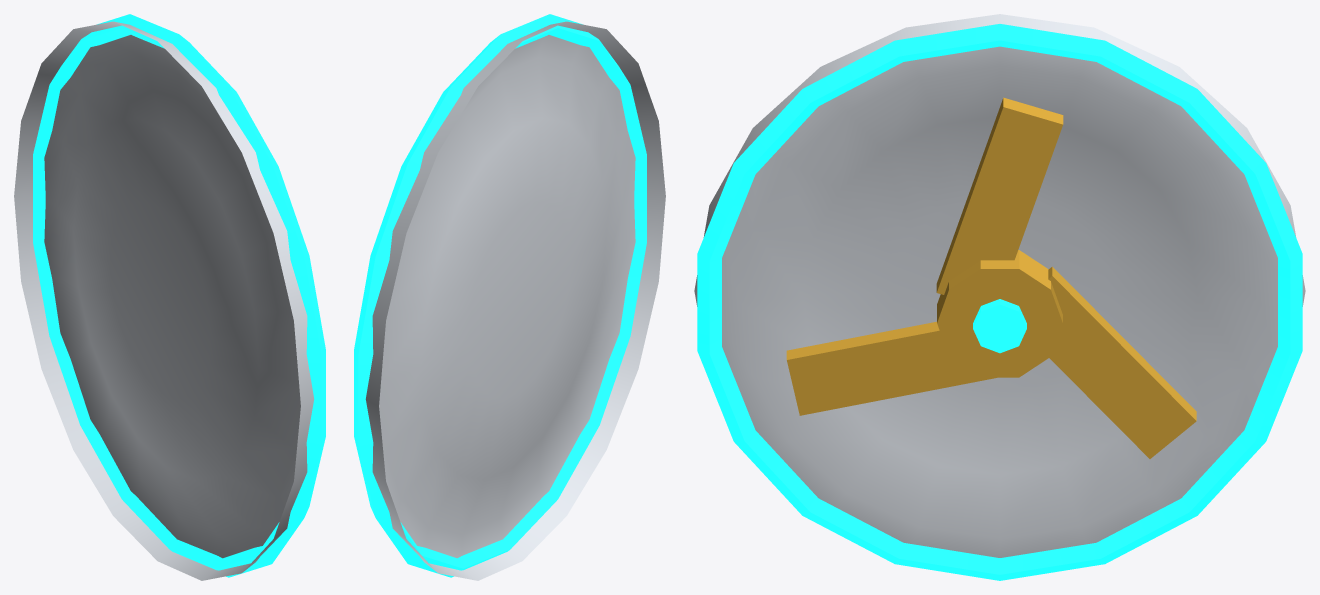
The model's file is hub_neon_spinner.glb.
The picture shows the model from 3 angles, left to right: view 1: azimuth 30°, elevation 25°; view 2: azimuth 150°, elevation 25°; view 3: azimuth 270°, elevation 25°; orthographic projection. The views are drawn at different scales.
Parts seen in each view (by area): view 1: hub_neon_spinner_chrome, hub_neon_spinner_deco_neon; view 2: hub_neon_spinner_chrome, hub_neon_spinner_deco_neon; view 3: hub_neon_spinner_chrome, hub_neon_spinner_deco_neon, hub_neon_spinner_paint_gold.
Part boxes in pixels (x1=…): hub_neon_spinner_chrome: x1=14, y1=21, x2=314, y2=580; hub_neon_spinner_deco_neon: x1=33, y1=14, x2=325, y2=577; hub_neon_spinner_chrome: x1=365, y1=21, x2=665, y2=580; hub_neon_spinner_deco_neon: x1=354, y1=14, x2=646, y2=577; hub_neon_spinner_chrome: x1=694, y1=14, x2=1305, y2=557; hub_neon_spinner_deco_neon: x1=697, y1=24, x2=1302, y2=580; hub_neon_spinner_paint_gold: x1=786, y1=97, x2=1196, y2=458.
Bounding box in the file's own units: 0.1 × 0.684 × 0.68.
